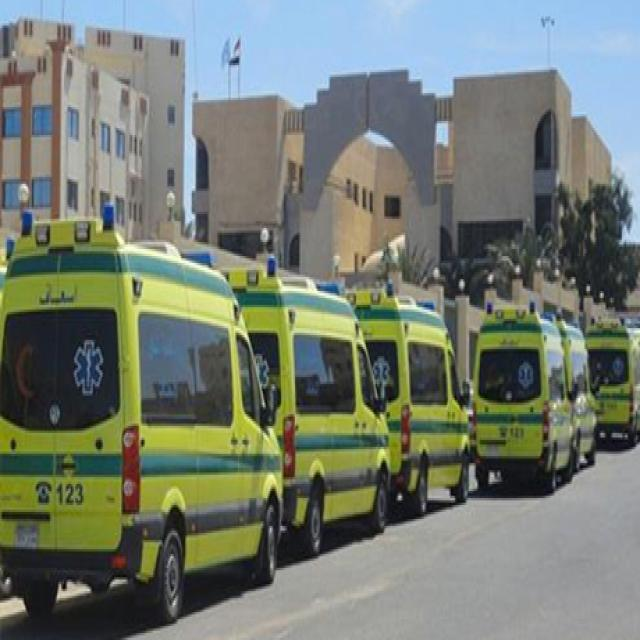Ambulance: (0, 203, 284, 622), (212, 252, 390, 556), (341, 277, 470, 517), (469, 298, 577, 491), (584, 314, 639, 447), (552, 314, 597, 468), (618, 312, 638, 433)
